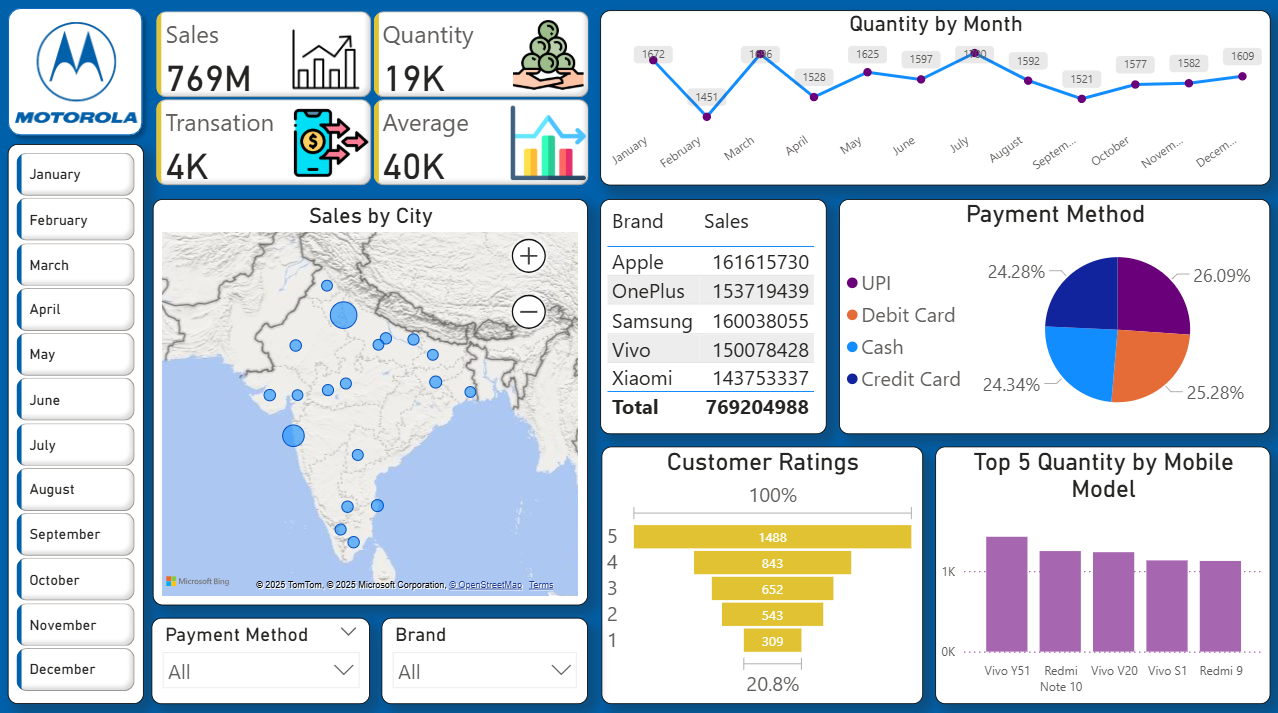

This screenshot's page, from the dashboard's own definition file:
{"tool":"powerbi","page":{"name":"Page 1","canvas":[1280,720],"ordinal":0},"visuals":[{"type":"shape","box":[0,0,152.3,145.3],"z":0},{"type":"image","box":[8.1,7,136,132.6],"z":1000},{"type":"advancedSlicerVisual","fields":{"Values":["Sales_Data.Date.Variation.Date Hierarchy.Month"]},"box":[8.8,145,136.2,560],"z":2000},{"type":"cardVisual","fields":{"Data":["Sales_Data.Sales","Sales_Data.Quantity","Sales_Data.Transation","Sales_Data.Average"]},"box":[152.5,7.5,442,185],"z":3000},{"type":"map","fields":{"Category":["Sales_Data.City"],"Size":["Sales_Data.Sales"]},"box":[153.8,200,435,406.2],"z":4000},{"type":"lineChart","fields":{"Y":["Sales_Data.Quantity"],"Category":["Sales_Data.Date.Variation.Date Hierarchy.Month","Sales_Data.Date.Variation.Date Hierarchy.Day"]},"box":[601.2,11.2,670,175],"z":5000},{"type":"tableEx","fields":{"Values":["Sales_Data.Brand","Sales_Data.Sales"]},"box":[601.2,200,226.2,235],"z":6000},{"type":"pieChart","title":"Payment Method","fields":{"Category":["Sales_Data.Payment Method"],"Y":["Sales_Data.Quantity"]},"box":[840,200,431.2,235],"z":7000},{"type":"funnel","title":"Customer Ratings","fields":{"Category":["Sales_Data.Customer Ratings"],"Y":["CountNonNull(Sales_Data.Customer Name)"]},"box":[602.5,447.5,321.2,257.5],"z":8000},{"type":"clusteredColumnChart","title":"Top 5 Quantity by Mobile Model","fields":{"Y":["Sales_Data.Quantity"],"Category":["Sales_Data.Mobile Model"]},"box":[936.2,447.5,335,257.5],"z":9000},{"type":"slicer","fields":{"Values":["Sales_Data.Payment Method"]},"box":[152.5,618.8,218.8,86.2],"z":10000},{"type":"slicer","fields":{"Values":["Sales_Data.Brand"]},"box":[382.5,618.8,206.2,86.2],"z":11000}]}

Visuals, with their boxes in screenshot pixels (x1, y1, x2, y2), scaled from the page's 1280x720 canvas onto the 1278x713 screenshot:
shape: select_region(0, 0, 152, 144)
image: select_region(8, 7, 144, 138)
advancedSlicerVisual - Sales_Data.Date.Variation.Date Hierarchy.Month: select_region(9, 144, 145, 698)
cardVisual - Sales_Data.Sales x Sales_Data.Quantity: select_region(152, 7, 594, 191)
map - Sales_Data.City x Sales_Data.Sales: select_region(154, 198, 588, 600)
lineChart - Sales_Data.Quantity x Sales_Data.Date.Variation.Date Hierarchy.Month: select_region(600, 11, 1269, 184)
tableEx - Sales_Data.Brand x Sales_Data.Sales: select_region(600, 198, 826, 431)
"Payment Method" pieChart: select_region(839, 198, 1269, 431)
"Customer Ratings" funnel: select_region(602, 443, 922, 698)
"Top 5 Quantity by Mobile Model" clusteredColumnChart: select_region(935, 443, 1269, 698)
slicer - Sales_Data.Payment Method: select_region(152, 613, 371, 698)
slicer - Sales_Data.Brand: select_region(382, 613, 588, 698)
